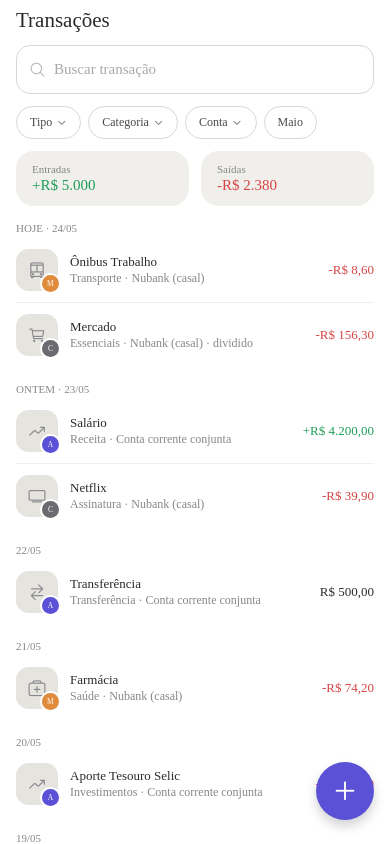
Test: Transações › filtra por tipo pelo picker
Click the text "Tipo": (41, 122) [30, 115, 52, 130]
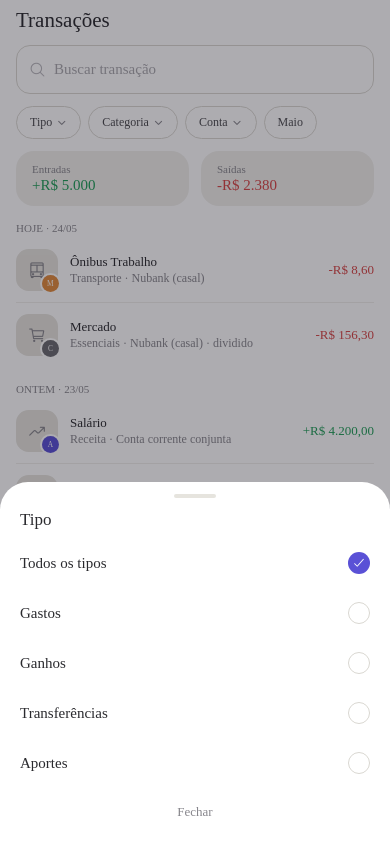
Click the text "Ganhos": (43, 662) [20, 654, 66, 670]
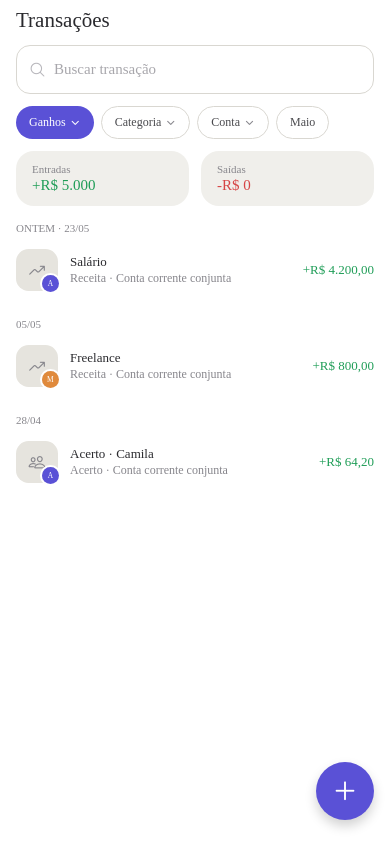
Expected: the text "Salário" is shown, [70, 254, 107, 269]
Expected: the text "Mercado" is gone
Expected: the text "Freelance" is shown, [70, 350, 120, 365]
